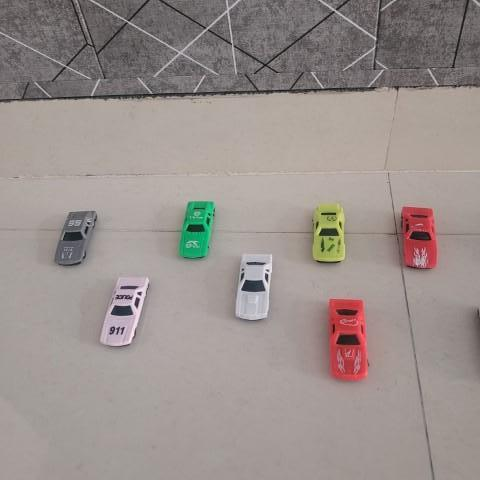car: (99, 274, 151, 349), (328, 295, 371, 380), (397, 203, 442, 272), (233, 249, 271, 322), (54, 210, 100, 270), (175, 198, 215, 263), (308, 202, 350, 262)
